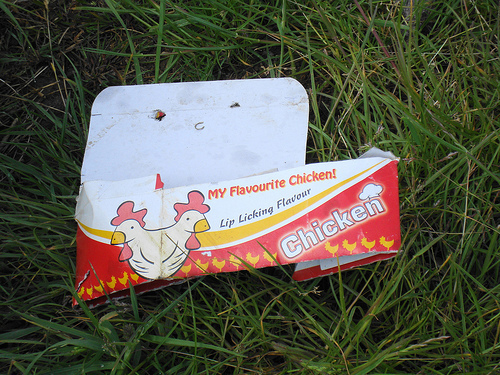litter: (76, 76, 401, 311)
